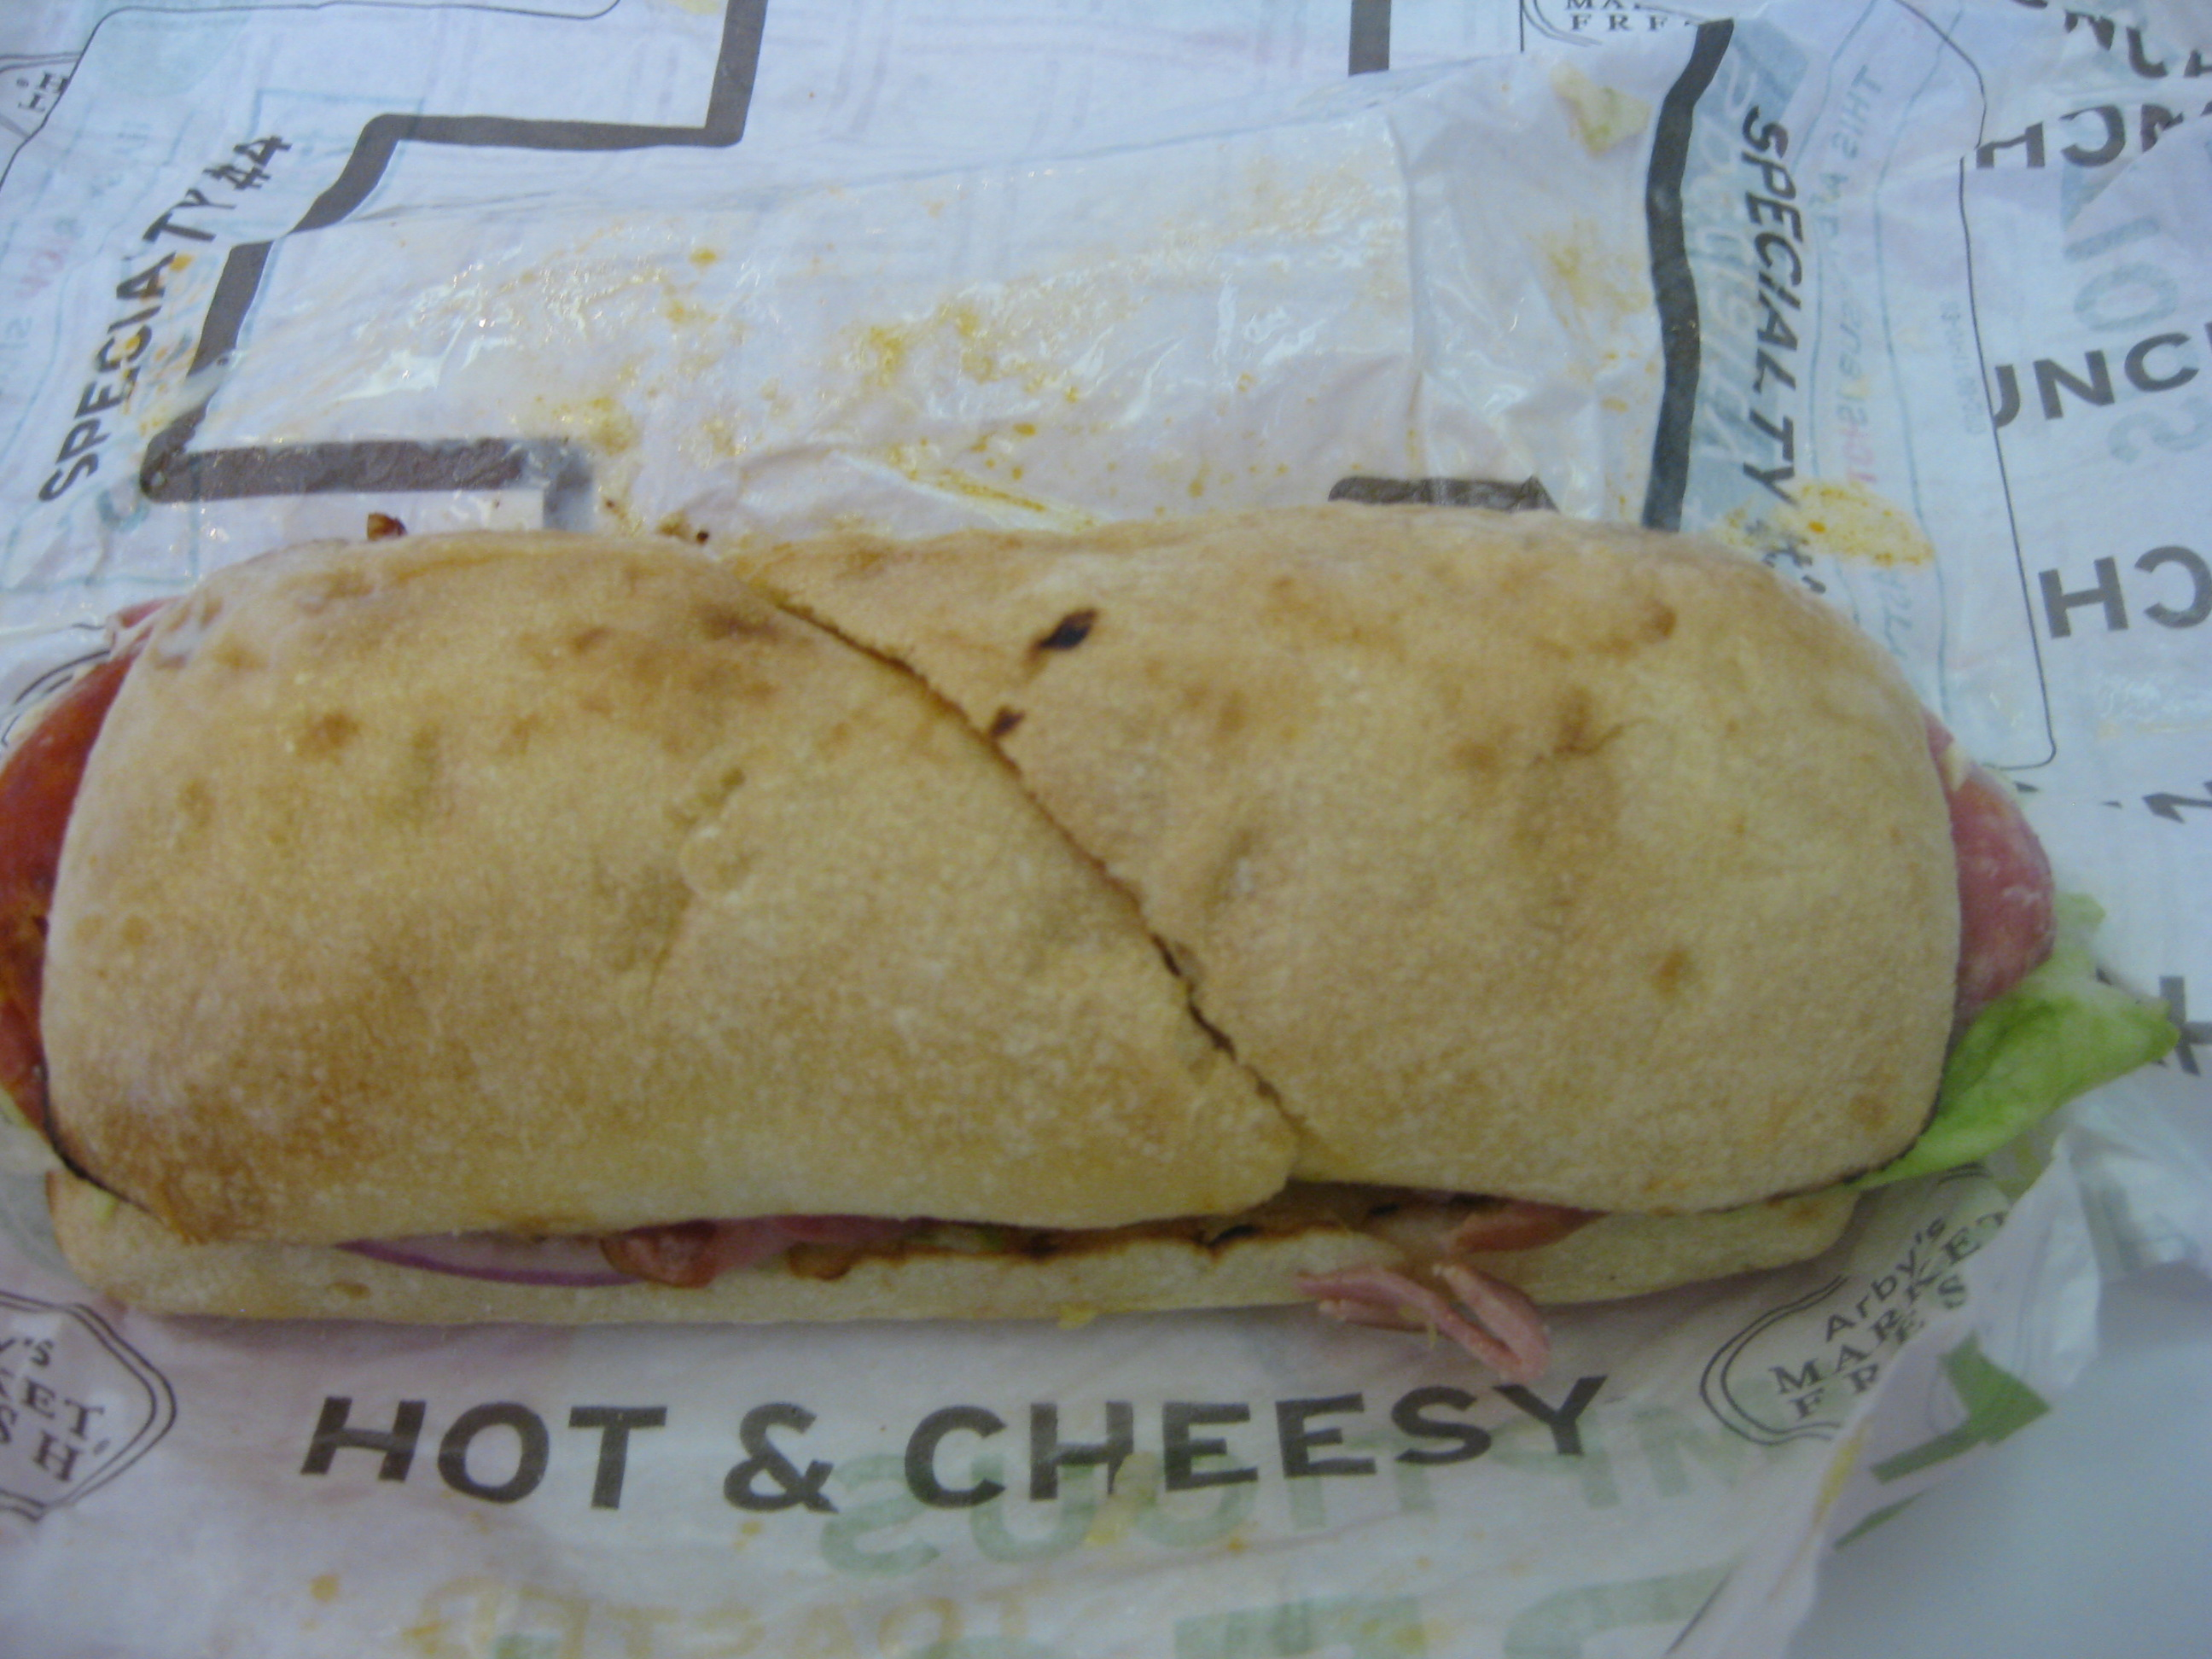sub: (8, 505, 2110, 1418)
